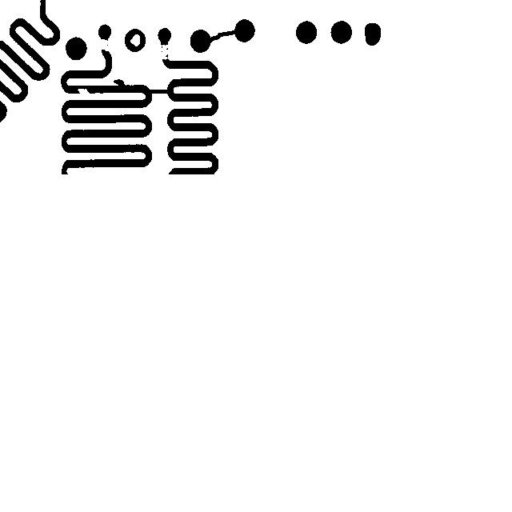copper: (357, 15, 388, 53)
mousebite: (70, 81, 97, 102)
open: (143, 37, 179, 67), (87, 31, 118, 58)
pin-hole: (122, 26, 147, 54)
short: (195, 22, 246, 51), (139, 82, 178, 101)
spur: (106, 71, 134, 96)
